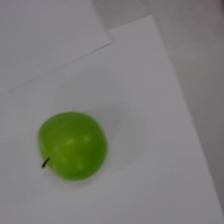green: (36, 109, 107, 181)
